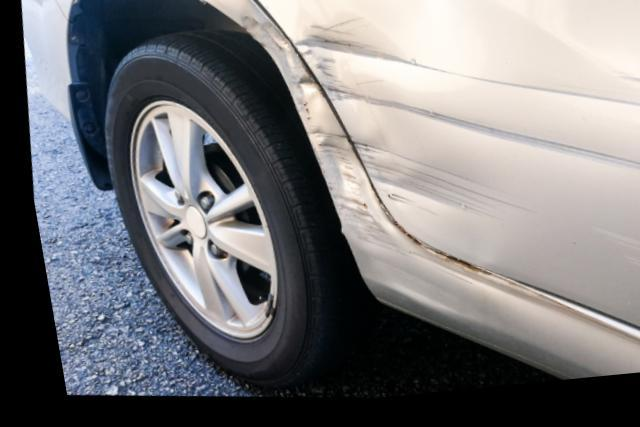dent: (290, 0, 495, 273), (238, 10, 380, 257)
scratch: (395, 108, 640, 188), (399, 62, 640, 126), (582, 238, 640, 291)
